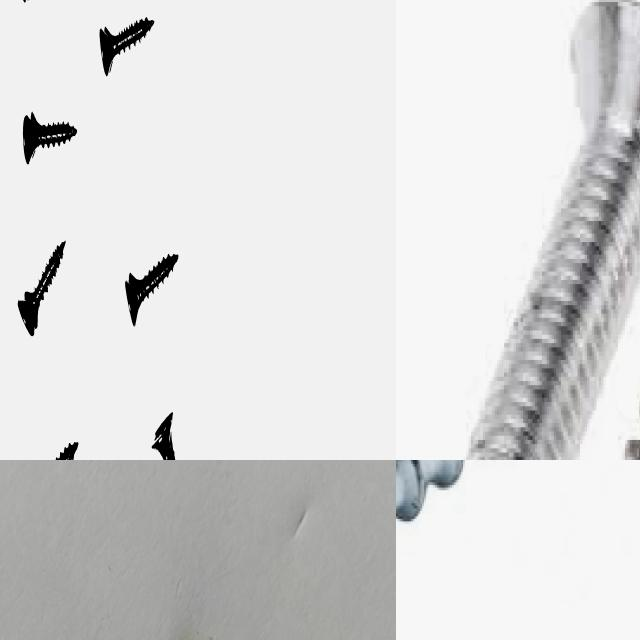Screw: (464, 0, 640, 460), (17, 240, 65, 335), (125, 253, 178, 325), (99, 15, 154, 73), (22, 111, 76, 162), (152, 412, 176, 460)
